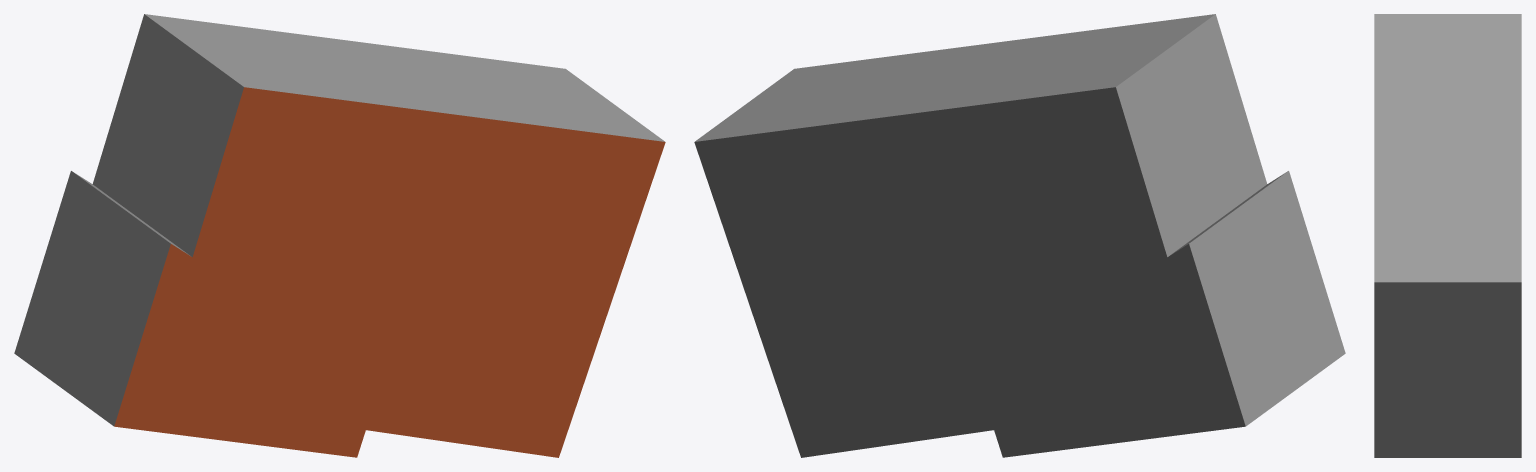
The model's file is construction_4511_assumed_A_Casa_h6m.obj.
3 renders of one model, left to right at view 1: azimuth 30°, elevation 25°; view 2: azimuth 150°, elevation 25°; view 3: azimuth 270°, elevation 25°, orthographic. The views are drawn at different scales.
Visible parts, largest first — view 1: construction_4511_assumed_A_Casa; view 2: construction_4511_assumed_A_Casa; view 3: construction_4511_assumed_A_Casa.
Boxes of the visible parts, x1,y1,x2,y2 form: construction_4511_assumed_A_Casa: (14,14,665,457); construction_4511_assumed_A_Casa: (694,14,1345,457); construction_4511_assumed_A_Casa: (1374,14,1521,457).
Size of the model in its own units: 19.12 by 14.83 by 6.
